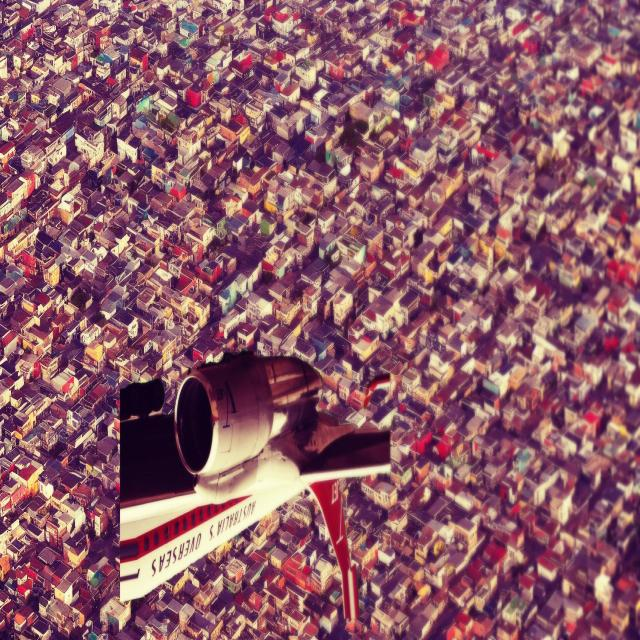airplane: (119, 351, 392, 624)
